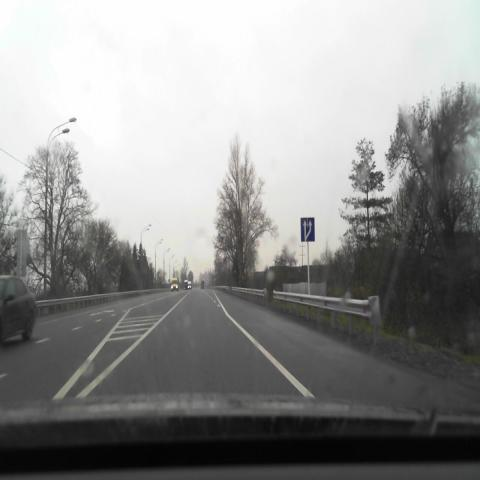5_15_3: (300, 217, 314, 242)
